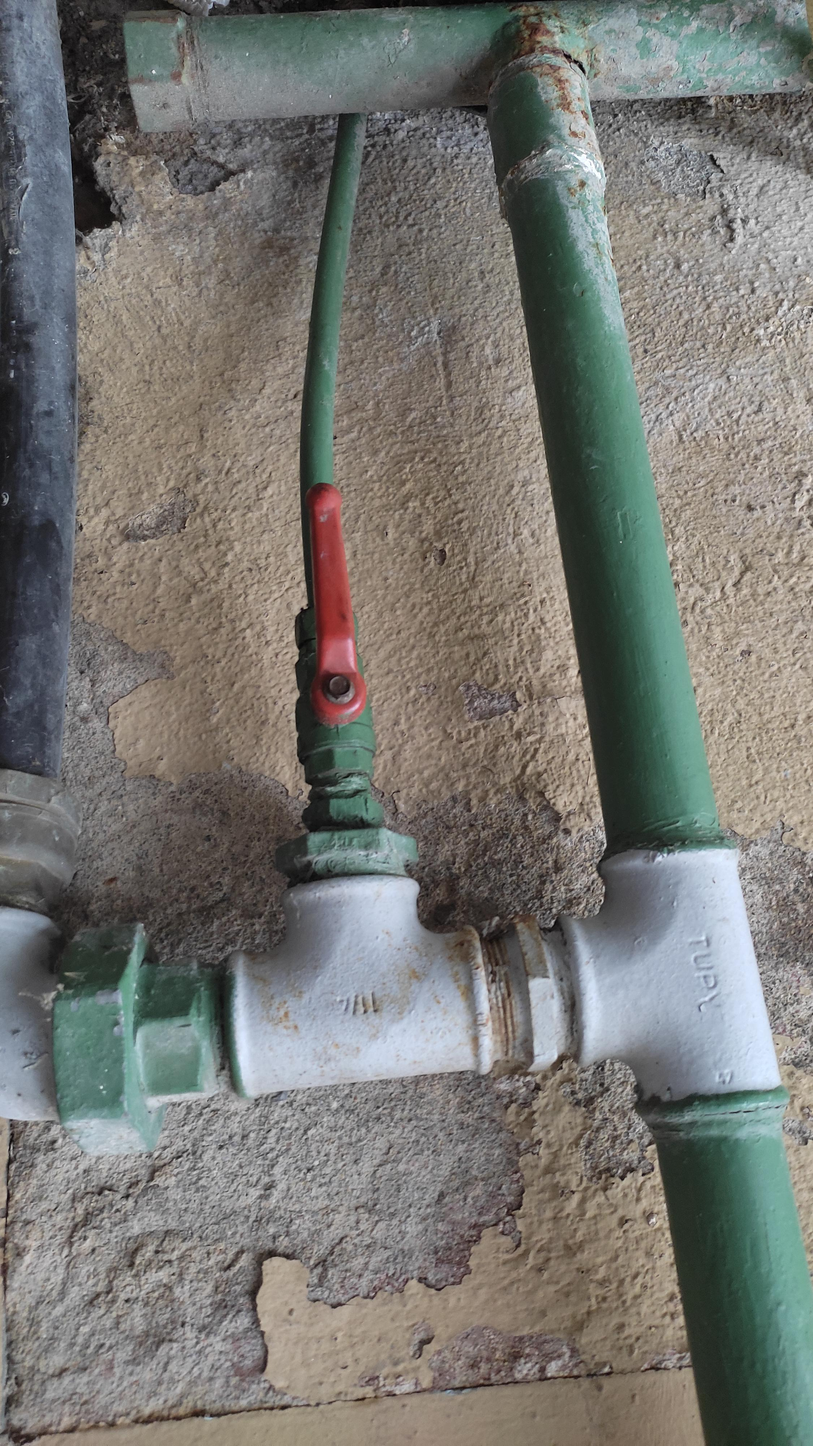opened valve: (284, 478, 386, 790)
